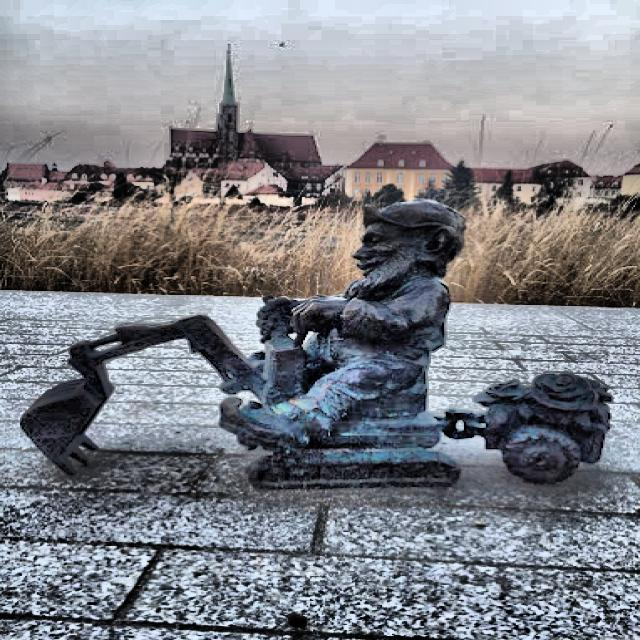Koparkus: (22, 200, 611, 489)
